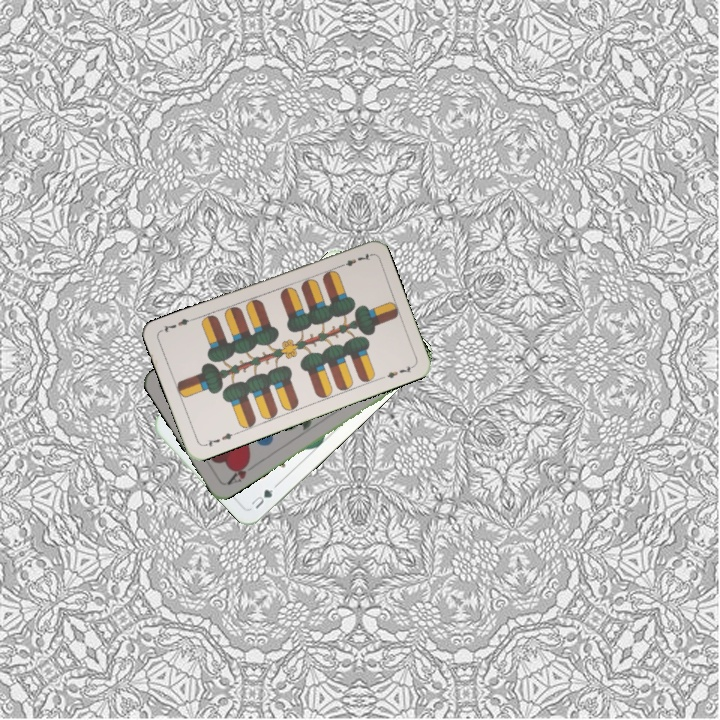E7: (334, 249, 373, 271), (200, 428, 239, 449)
GU: (246, 485, 276, 512)
HA: (223, 457, 259, 487)
